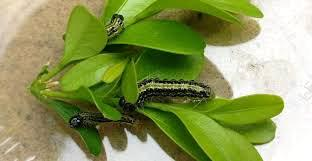Caterpillar: (116, 77, 215, 113), (64, 116, 148, 133), (98, 13, 125, 41)
